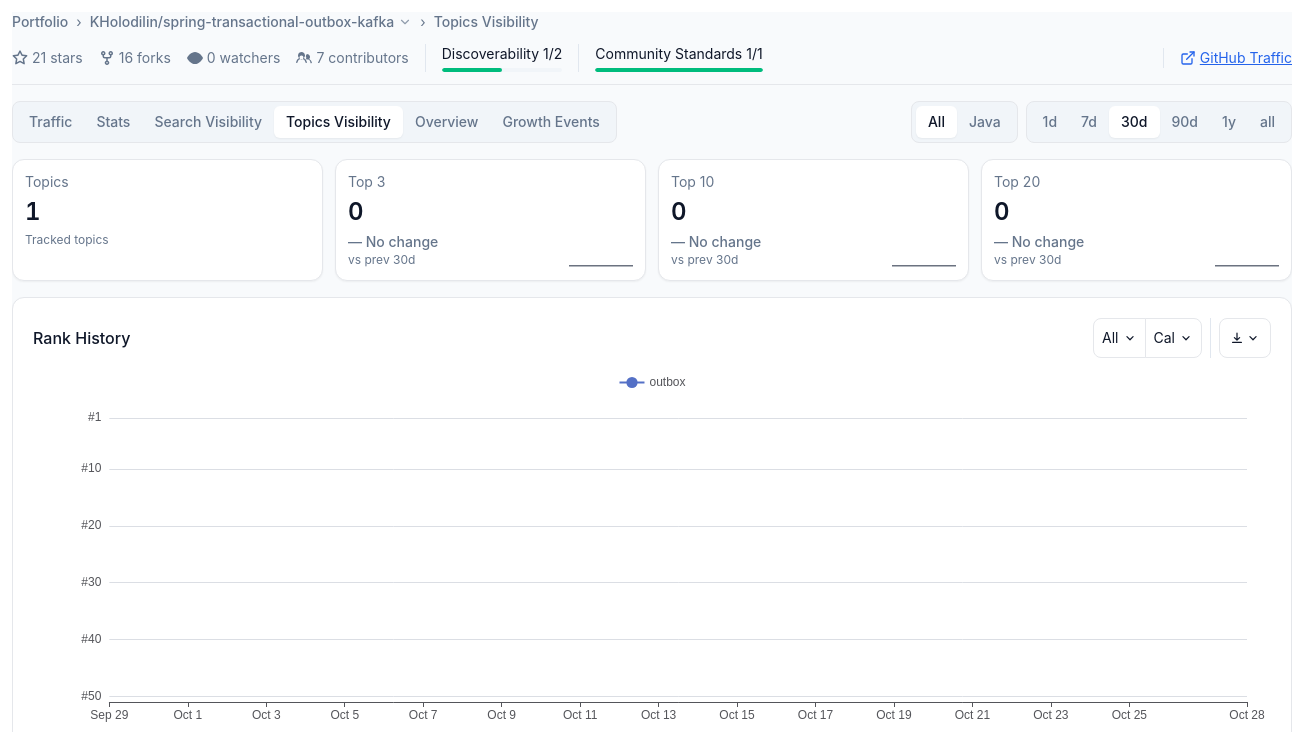
Test case: topics visibility scope cookie › keeps another repository on its own scope
Step 1. Click the button "Java" → coordinates (985, 122), box [957,106,1013,138]
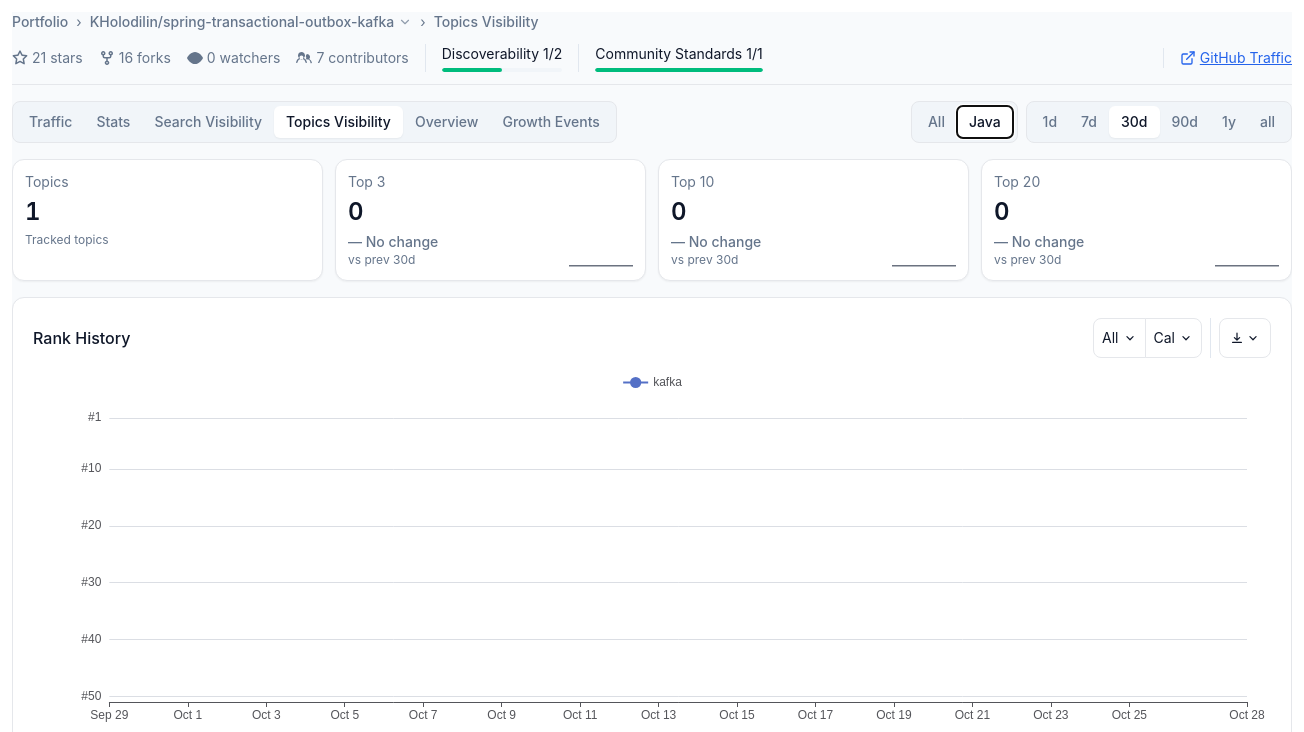
Step 2. Click the button with aria-label "Switch repository" → coordinates (251, 22), box [90,12,412,32]
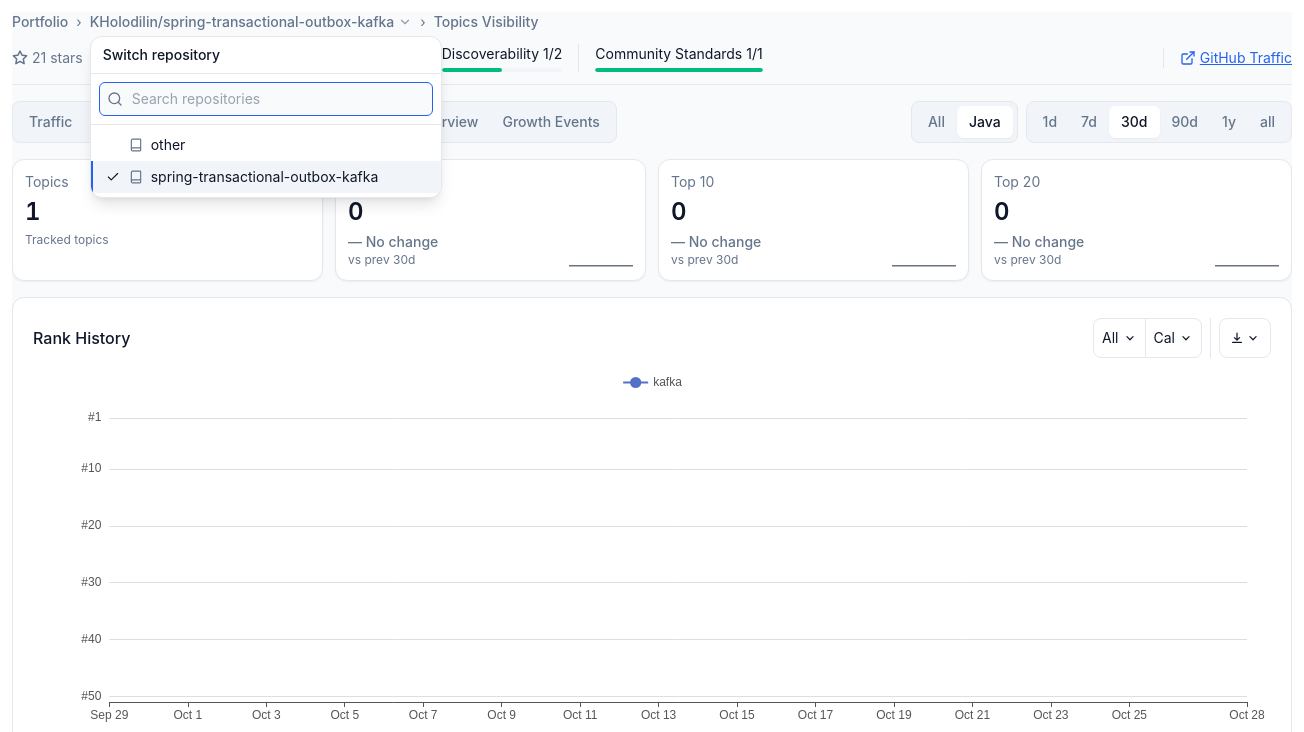
Step 3. Click the option "other" → coordinates (168, 144), box [91,129,441,161]
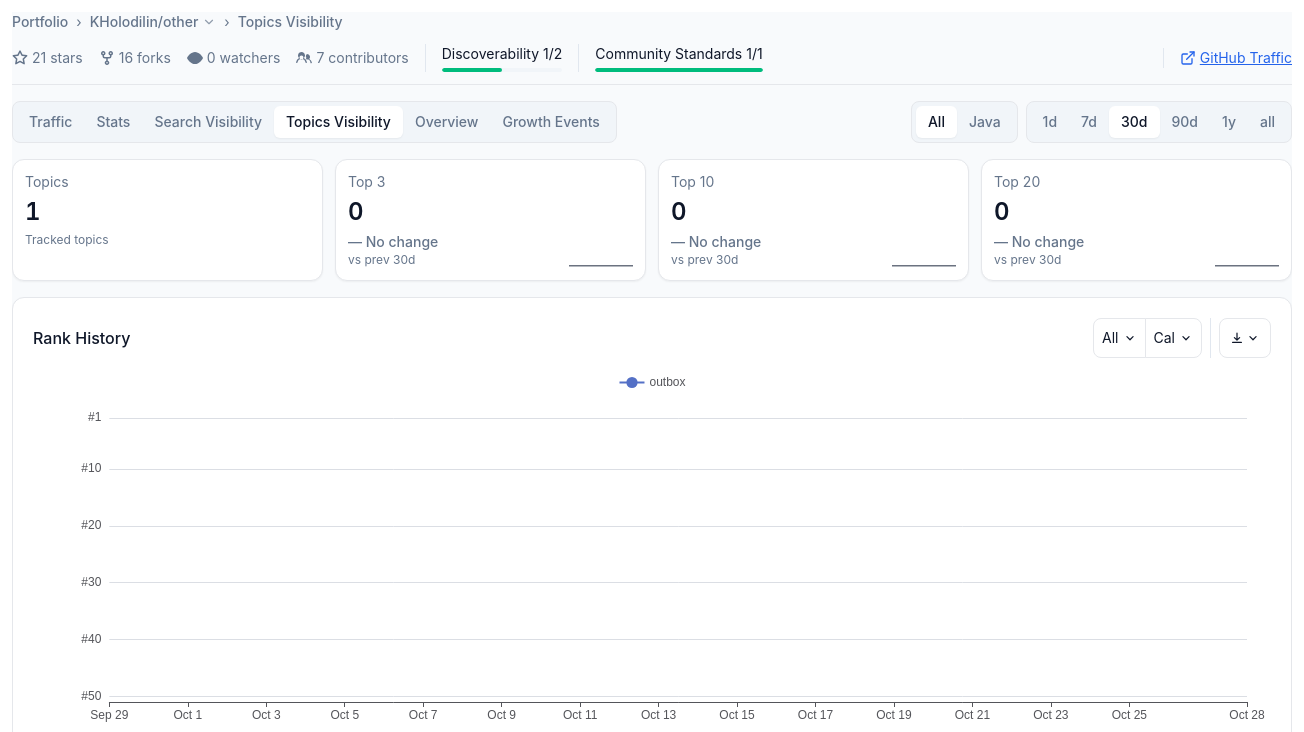
Expected: the text "KHolodilin/other" is shown, [90,12,198,32]
